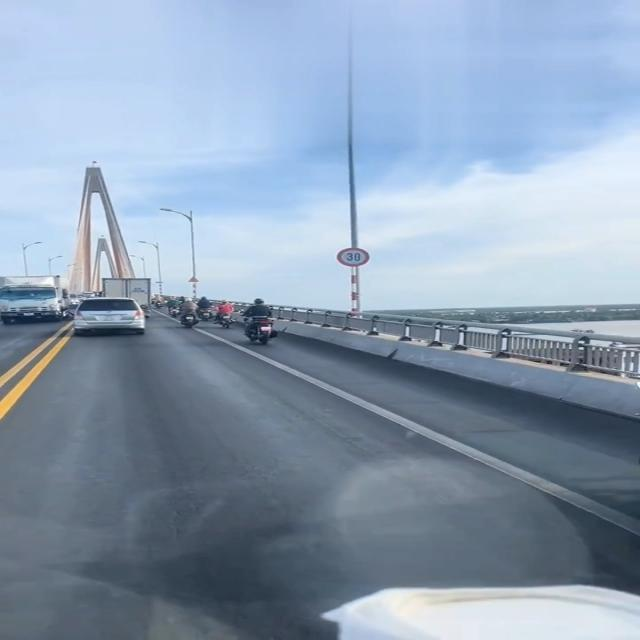127-toc-do-toi-da-30: (334, 246, 370, 266)
